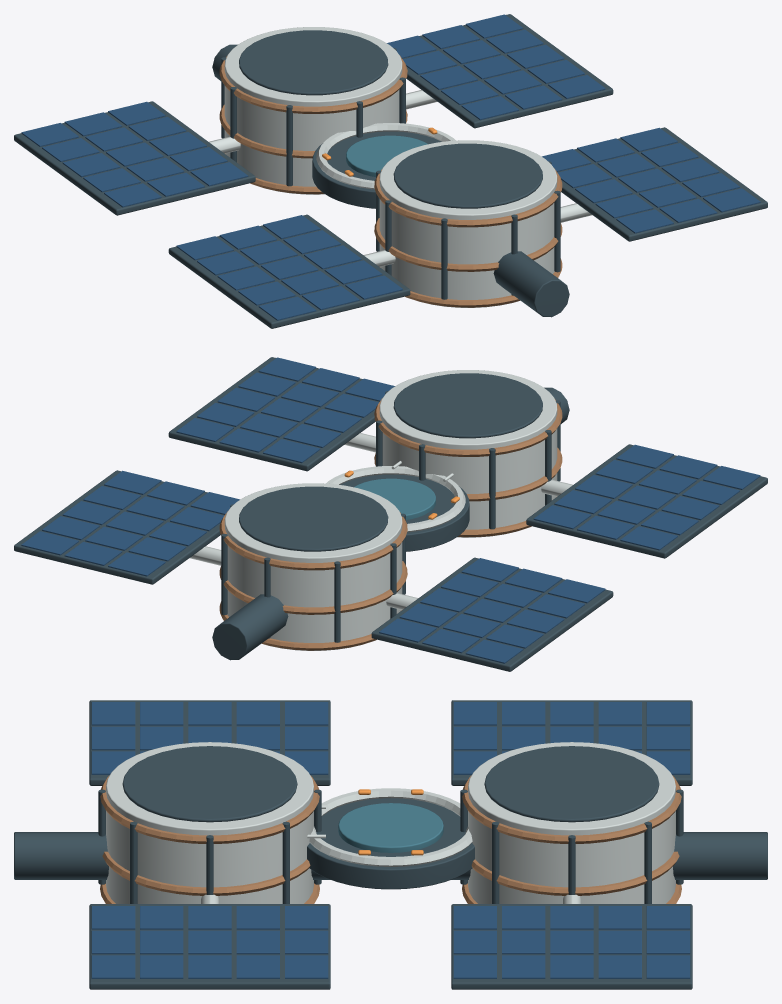
File: OrbitalRefinery115.fbx
The picture shows the model from 3 angles, top to bottom: view 1: azimuth 30°, elevation 25°; view 2: azimuth 150°, elevation 25°; view 3: azimuth 270°, elevation 25°; orthographic projection. The views are drawn at different scales.
Visible parts, largest first — view 1: Refinery thermal drum, Refinery thermal drum.001, Dark sunken cap, Dark sunken cap.001, Radiator perimeter frame.004, Radiator perimeter frame.006, Radiator perimeter frame.007, Radiator perimeter frame.005, Central service spine.001, Central docking collar.001, Airlock port.001, Dock guide rim.001 (+68 smaller); view 2: Refinery thermal drum.001, Refinery thermal drum, Dark sunken cap.001, Dark sunken cap, Radiator perimeter frame.006, Radiator perimeter frame.004, Radiator perimeter frame.005, Radiator perimeter frame.007, Central service spine.001, Central docking collar.001, Airlock port.001, Dock guide rim.001 (+68 smaller); view 3: Refinery thermal drum.001, Refinery thermal drum, Dark sunken cap, Dark sunken cap.001, Central service spine.001, Central docking collar.001, Radiator perimeter frame.005, Radiator perimeter frame.007, Airlock port.001, Dock guide rim.001, Radiator perimeter frame.004, Radiator perimeter frame.006 (+62 smaller).
Part boxes in pixels (box(x1,y1,x2,y2)): Refinery thermal drum: box(379, 140, 557, 307); Refinery thermal drum.001: box(224, 27, 402, 194); Dark sunken cap: box(393, 143, 542, 208); Dark sunken cap.001: box(239, 30, 388, 95); Radiator perimeter frame.004: box(168, 214, 410, 328); Radiator perimeter frame.006: box(14, 101, 255, 215); Radiator perimeter frame.007: box(402, 14, 613, 128); Radiator perimeter frame.005: box(557, 127, 767, 241); Central service spine.001: box(212, 44, 569, 317); Central docking collar.001: box(312, 131, 441, 208); Airlock port.001: box(346, 135, 427, 176); Dock guide rim.001: box(316, 123, 455, 189); Refinery thermal drum.001: box(224, 483, 402, 650); Refinery thermal drum: box(379, 370, 557, 537); Dark sunken cap.001: box(239, 486, 388, 551); Dark sunken cap: box(393, 373, 542, 438); Radiator perimeter frame.006: box(371, 557, 613, 671); Radiator perimeter frame.004: box(526, 444, 767, 558); Radiator perimeter frame.005: box(168, 357, 379, 471); Radiator perimeter frame.007: box(14, 470, 224, 584); Central service spine.001: box(212, 387, 569, 660); Central docking collar.001: box(340, 474, 469, 551); Airlock port.001: box(354, 478, 435, 519); Dock guide rim.001: box(326, 466, 465, 532); Refinery thermal drum.001: box(468, 742, 675, 903); Refinery thermal drum: box(106, 742, 313, 903); Dark sunken cap: box(122, 746, 297, 822); Dark sunken cap.001: box(484, 746, 659, 822); Central service spine.001: box(14, 832, 767, 879); Central docking collar.001: box(307, 798, 474, 889); Radiator perimeter frame.005: box(89, 904, 330, 989); Radiator perimeter frame.007: box(451, 904, 692, 989); Airlock port.001: box(338, 803, 443, 852); Dock guide rim.001: box(309, 788, 472, 866); Radiator perimeter frame.004: box(89, 700, 330, 785); Radiator perimeter frame.006: box(451, 700, 692, 785).
Bounding box in the file's own units: 890 × 164 × 1000.
